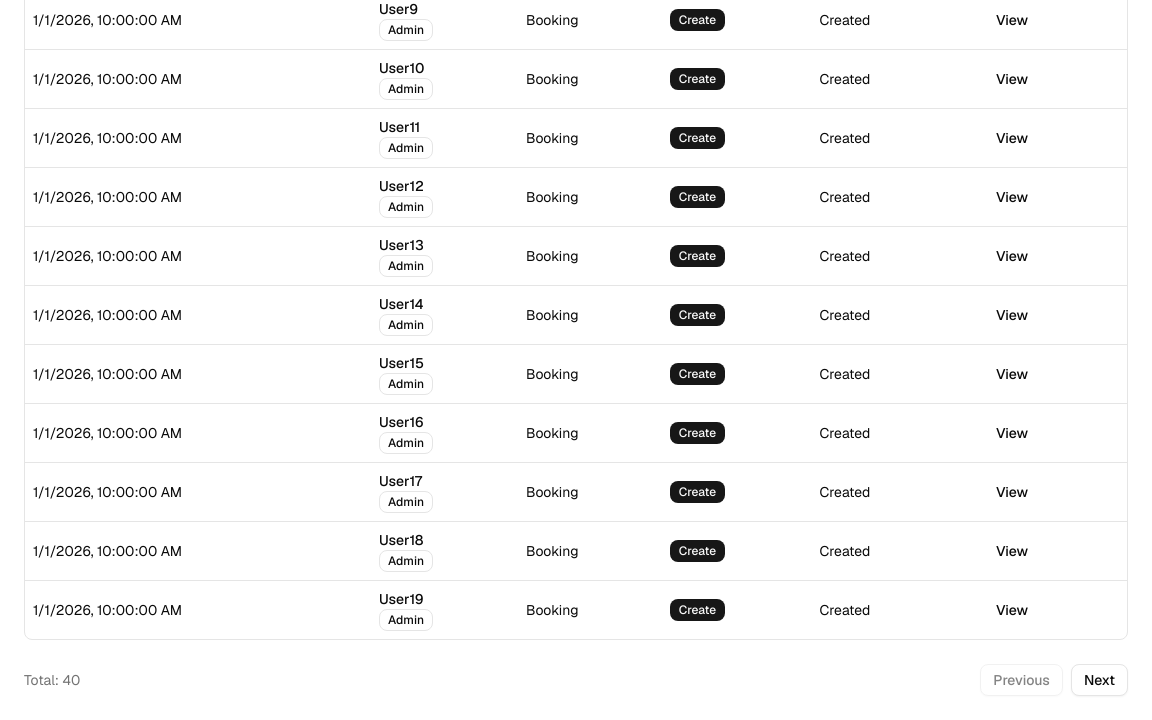
Test: AuditPage › clicking Previous on audit page after advancing decrements page
(page scrolled)
# Advance to page 2
Click the button "Next".
click(1099, 680)  # box [1071,664,1128,696]
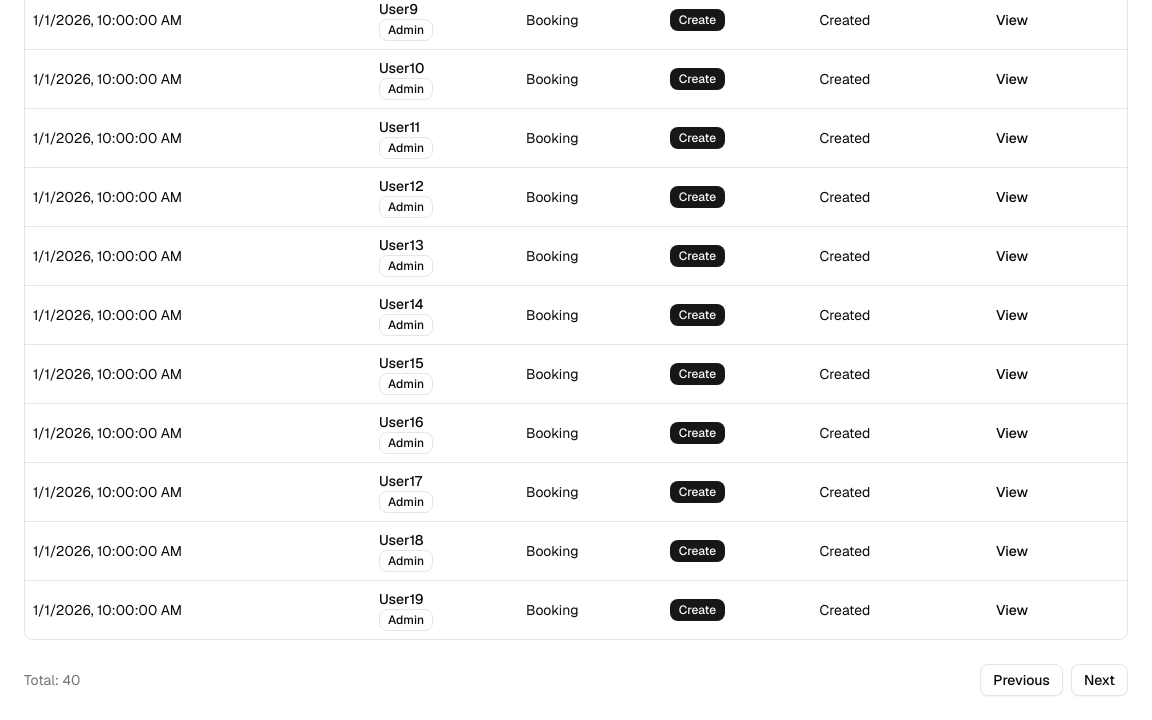
Check: the button "Previous" is enabled
# Go back to page 1
Click the button "Previous".
click(1022, 680)  # box [980,664,1063,696]
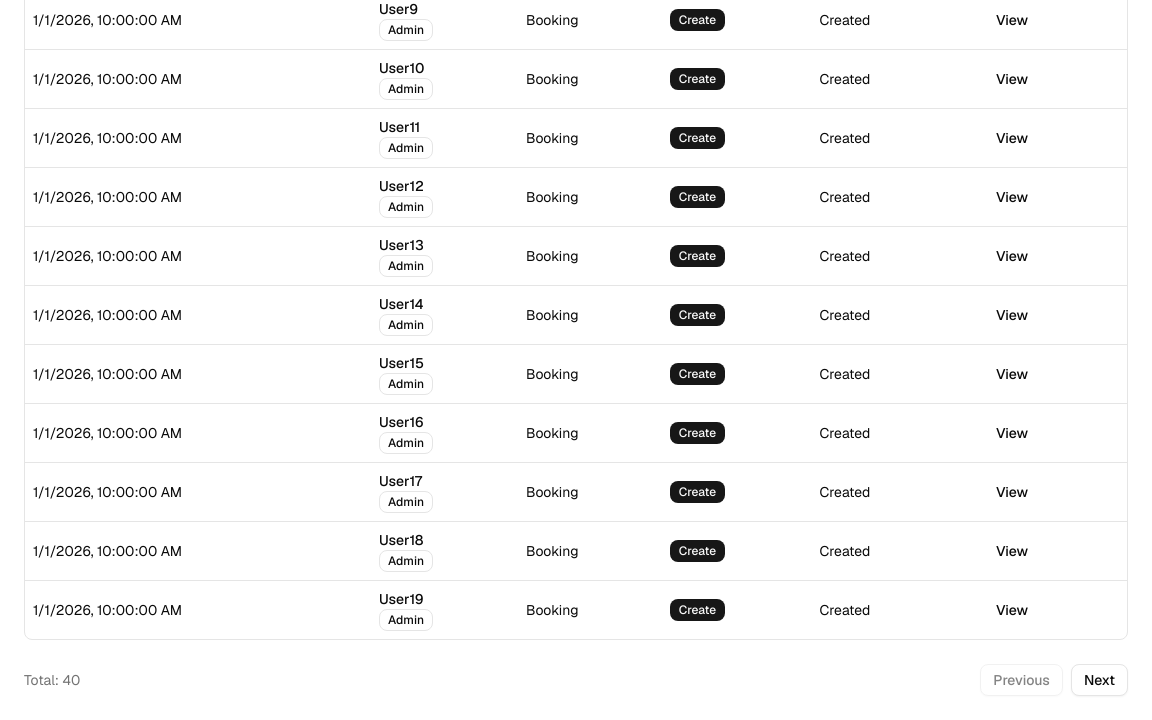
Check: the button "Previous" is disabled, box [980,664,1063,696]
